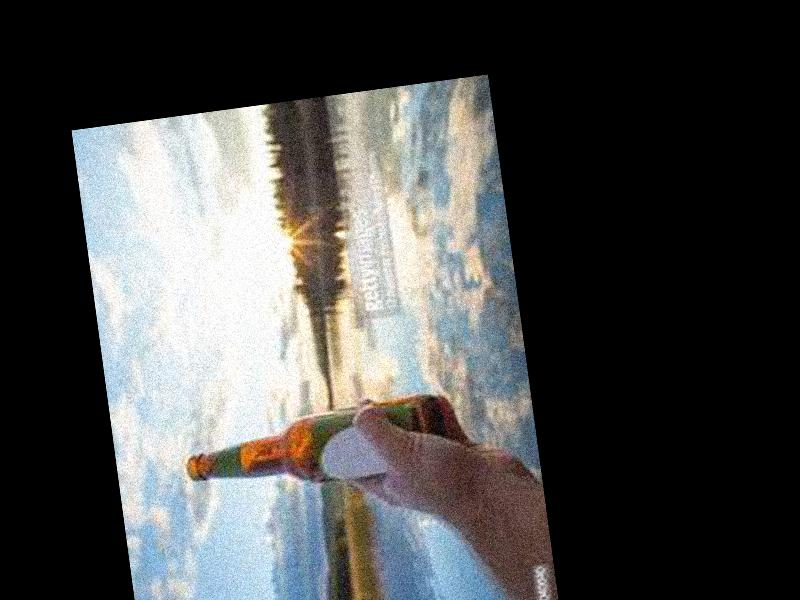Beer: (178, 389, 446, 502)
